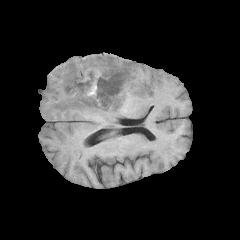glioma: (49, 55, 137, 126)
